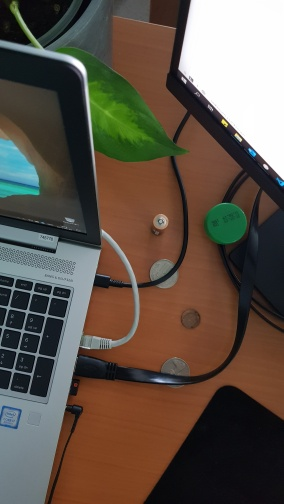coin: (160, 357, 191, 389), (148, 258, 179, 289), (180, 307, 201, 330)
